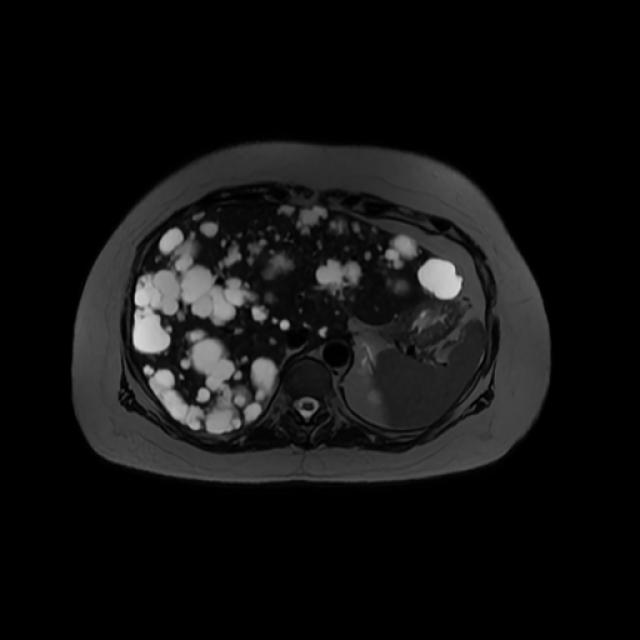sol: (367, 385, 383, 405)
